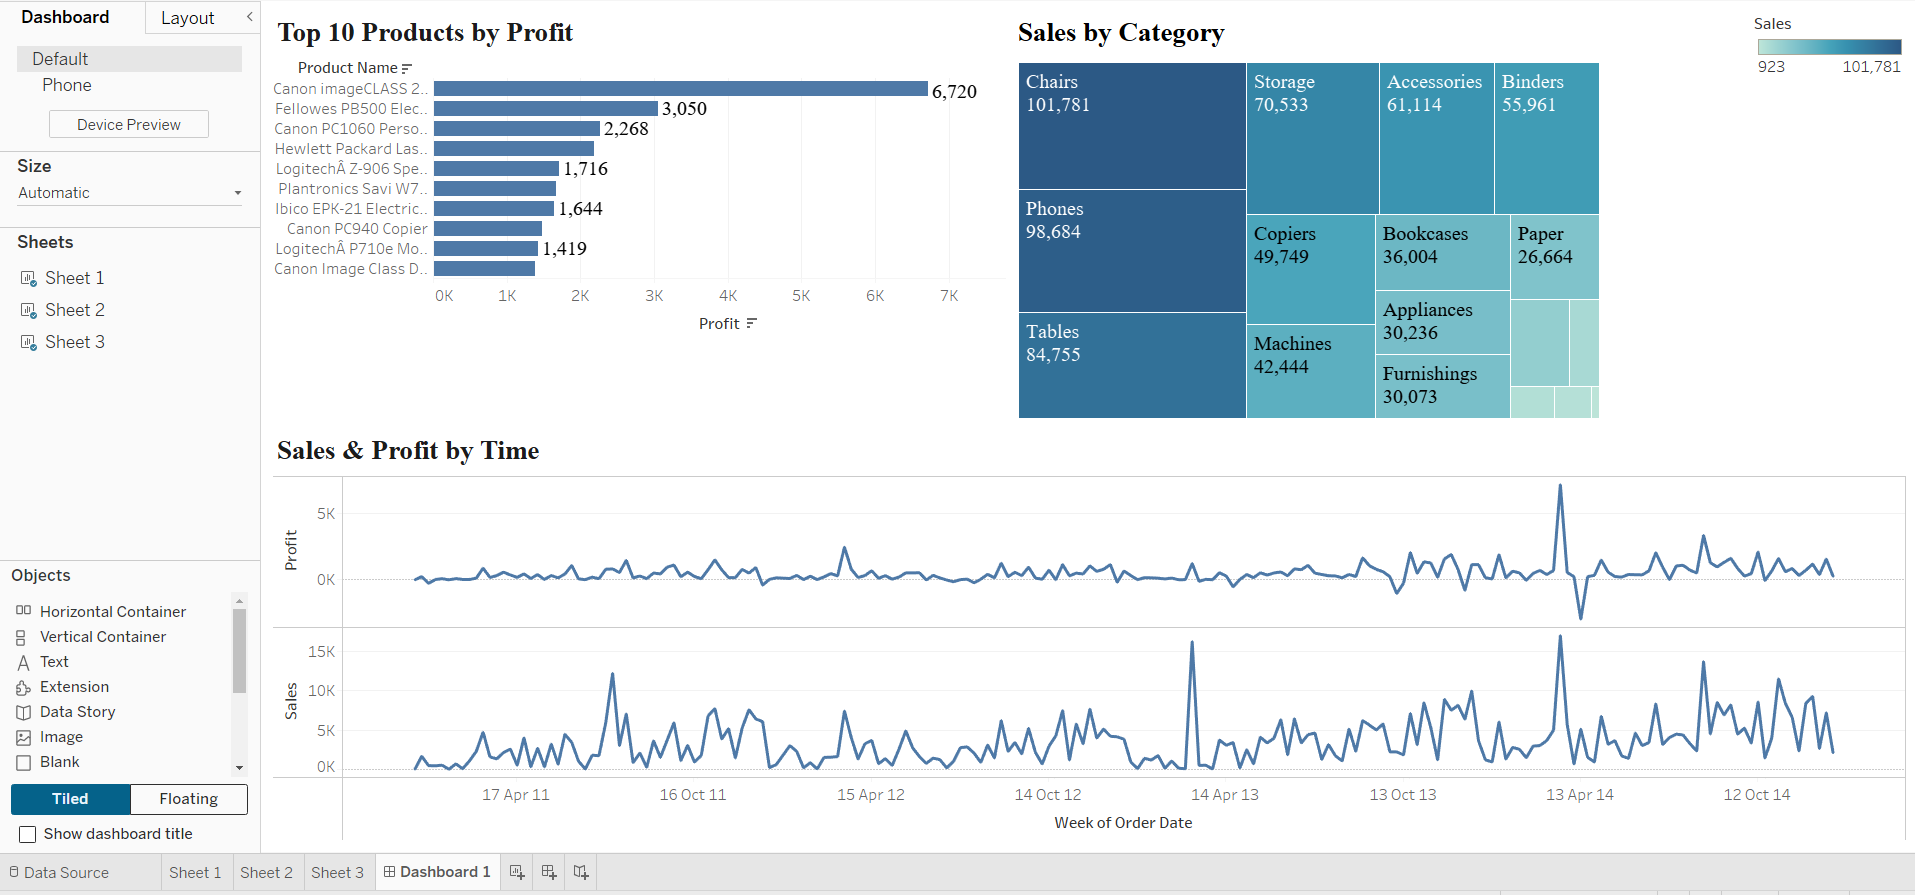

Layout of this report page (visuals, bound fields, positions):
{"tool":"tableau","page":{"name":"Dashboard 1","canvas":[1000,1000],"units":"permille","ordinal":0},"visuals":[{"type":"worksheet","title":"Sheet 2","mark":"Automatic","rows":["Product Name"],"cols":["Profit"],"box":[4.8,9.4,446.9,490.6]},{"type":"worksheet","title":"Sheet 1","mark":"Automatic","box":[451.7,9.4,446.9,490.6]},{"type":"legend","title":"Sheet 1","param":"[federated.0c833x207436wh15p8ter0kvqojc].[sum:Sales:qk]","box":[898.6,9.4,96.6,85.8]},{"type":"worksheet","title":"Sheet 3","mark":"Automatic","rows":["Profit","Sales"],"cols":["Order Date"],"box":[4.8,500,990.3,490.6]}]}

Visuals, with their boxes on the dashboard's canvas, which has no fixed pixel size, in thousandths of its width and height (x1, y1, x2, y2). These are canvas units, not pixel positions in the 1915x895 screenshot, which may show the page scaled, cropped or inside an application window:
"Sheet 2" worksheet: left=5, top=9, right=452, bottom=500
"Sheet 1" worksheet: left=452, top=9, right=899, bottom=500
"Sheet 1" legend: left=899, top=9, right=995, bottom=95
"Sheet 3" worksheet: left=5, top=500, right=995, bottom=991
